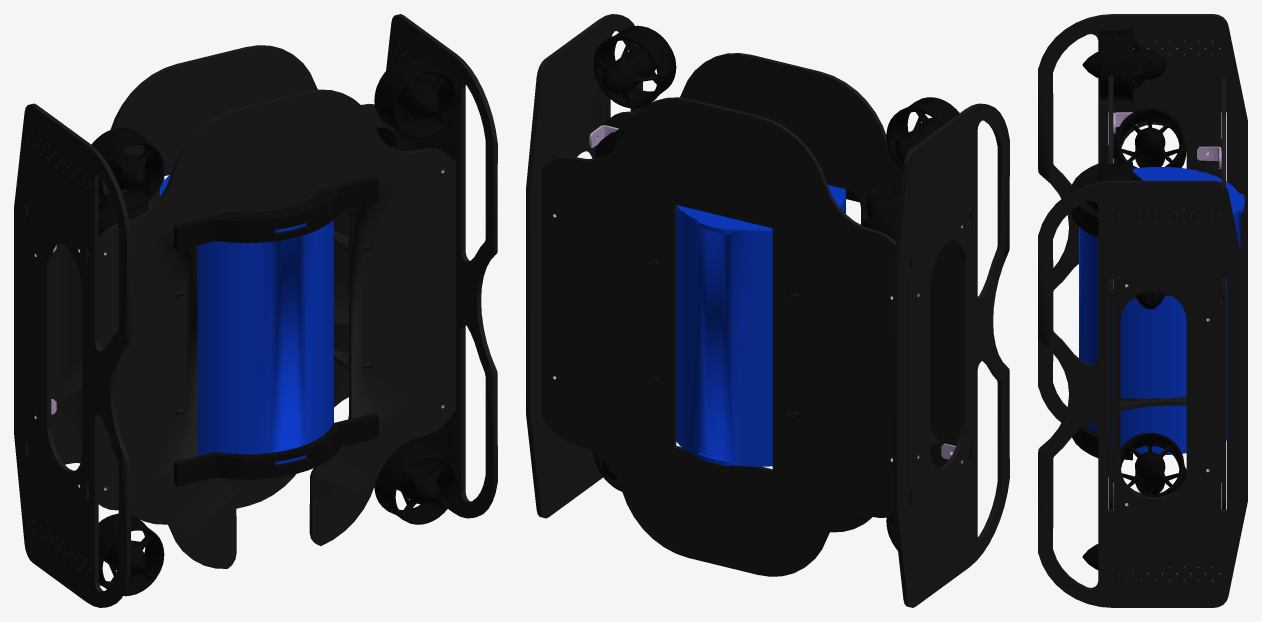
Rendered from new_robot.obj.
3 renders of one model, left to right at view 1: azimuth 30°, elevation 25°; view 2: azimuth 150°, elevation 25°; view 3: azimuth 270°, elevation 25°, orthographic. The views are drawn at different scales.
Parts seen in each view (by area): view 1: Projekt-X_Uproszczenie_1; view 2: Projekt-X_Uproszczenie_1; view 3: Projekt-X_Uproszczenie_1.
Boxes of the visible parts, x1,y1,x2,y2 form: Projekt-X_Uproszczenie_1: [14, 14, 497, 607]; Projekt-X_Uproszczenie_1: [526, 14, 1009, 607]; Projekt-X_Uproszczenie_1: [1038, 14, 1247, 607].
Size of the model in its own units: 5.3 by 6.24 by 2.79.
